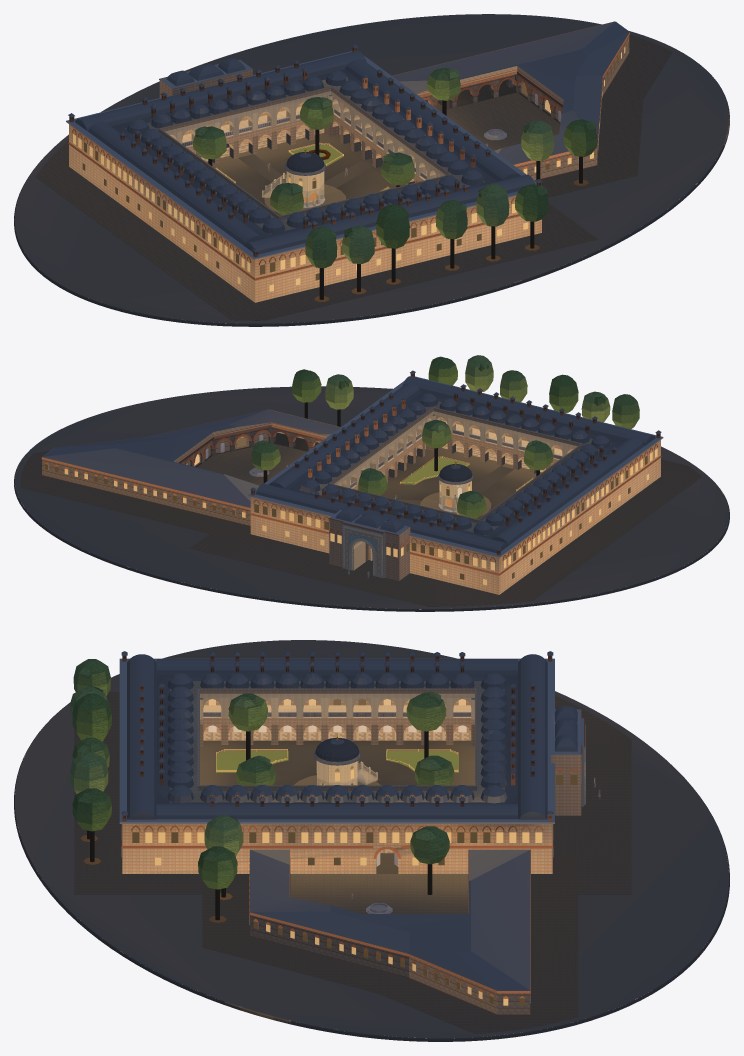
The model's file is koza-han_v18_night_sunum.glb.
3 views of the same model, one above another, from view 1: azimuth 30°, elevation 25°; view 2: azimuth 150°, elevation 25°; view 3: azimuth 270°, elevation 25° (orthographic). The views are drawn at different scales.
Parts seen in each view (by area): view 1: Zemin_Kaide, Cati, Cevre_Doseme, Govde_Dis, Ic_Koza, Revak_Kubbeleri, Avlu_Zemin, Avlu_Revak, Avlu_Agac, Cephe, Mescit, Portal (+10 smaller); view 2: Zemin_Kaide, Cati, Cevre_Doseme, Ic_Koza, Govde_Dis, Revak_Kubbeleri, Avlu_Zemin, Avlu_Revak, Cephe, Portal, Avlu_Agac, Mescit (+9 smaller); view 3: Zemin_Kaide, Cevre_Doseme, Cati, Ic_Koza, Govde_Dis, Revak_Kubbeleri, Avlu_Zemin, Avlu_Revak, Avlu_Agac, Cephe, Portal, Mescit (+8 smaller).
Boxes of the visible parts, x1=… form: Zemin_Kaide: x1=14, y1=14, x2=729, y2=326; Cati: x1=66, y1=44, x2=542, y2=259; Cevre_Doseme: x1=36, y1=35, x2=672, y2=320; Govde_Dis: x1=69, y1=69, x2=541, y2=302; Ic_Koza: x1=392, y1=21, x2=629, y2=180; Revak_Kubbeleri: x1=126, y1=70, x2=483, y2=233; Avlu_Zemin: x1=206, y1=76, x2=560, y2=215; Avlu_Revak: x1=125, y1=79, x2=484, y2=234; Avlu_Agac: x1=193, y1=67, x2=460, y2=215; Cephe: x1=68, y1=92, x2=528, y2=291; Mescit: x1=262, y1=148, x2=326, y2=207; Portal: x1=159, y1=58, x2=252, y2=97; Zemin_Kaide: x1=14, y1=386, x2=729, y2=611; Cati: x1=248, y1=370, x2=663, y2=557; Cevre_Doseme: x1=20, y1=451, x2=701, y2=606; Ic_Koza: x1=41, y1=409, x2=340, y2=525; Govde_Dis: x1=250, y1=392, x2=660, y2=594; Revak_Kubbeleri: x1=300, y1=393, x2=610, y2=535; Avlu_Zemin: x1=195, y1=432, x2=541, y2=519; Avlu_Revak: x1=300, y1=401, x2=611, y2=535; Cephe: x1=250, y1=444, x2=661, y2=585; Portal: x1=328, y1=508, x2=410, y2=580; Avlu_Agac: x1=251, y1=419, x2=553, y2=518; Mescit: x1=437, y1=462, x2=473, y2=514; Zemin_Kaide: x1=14, y1=640, x2=729, y2=1041; Cevre_Doseme: x1=74, y1=692, x2=631, y2=1033; Cati: x1=119, y1=651, x2=554, y2=823; Ic_Koza: x1=249, y1=849, x2=530, y2=1014; Govde_Dis: x1=122, y1=675, x2=552, y2=873; Revak_Kubbeleri: x1=167, y1=672, x2=507, y2=803; Avlu_Zemin: x1=200, y1=740, x2=474, y2=913; Avlu_Revak: x1=170, y1=681, x2=504, y2=802; Avlu_Agac: x1=228, y1=691, x2=454, y2=894; Cephe: x1=121, y1=760, x2=581, y2=865; Portal: x1=551, y1=706, x2=585, y2=815; Mescit: x1=313, y1=733, x2=377, y2=785.
Bounding box in the file's own units: 158 × 16.92 × 120.
46 materials, 19 textured.
